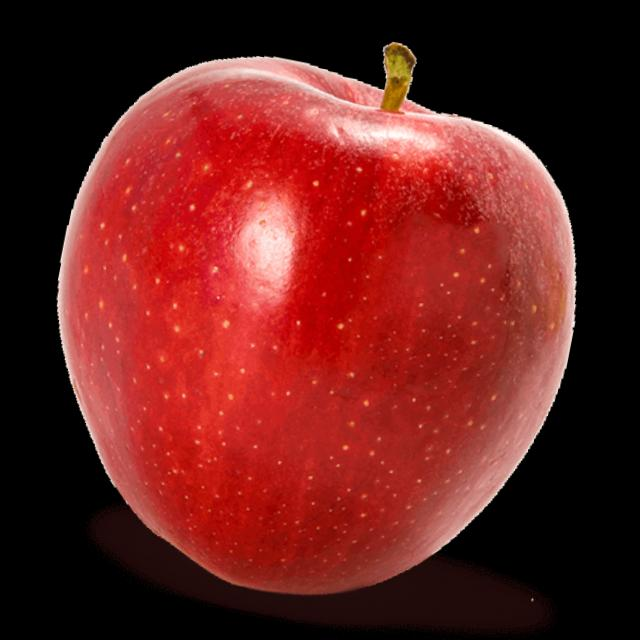apple: (6, 0, 623, 640)
